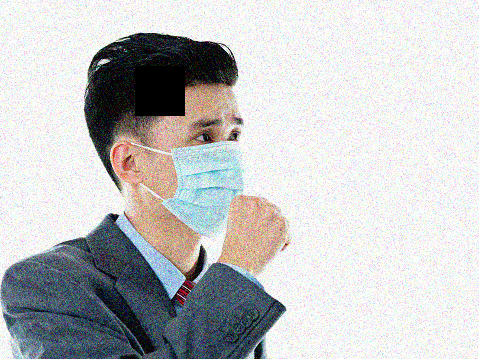with_mask: (144, 110, 244, 235)
